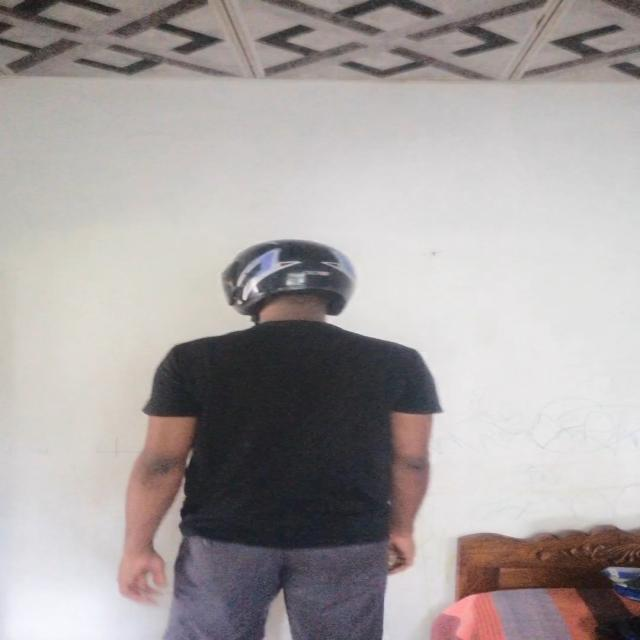Helmet_Wearer: (190, 234, 369, 338)
Person: (115, 236, 438, 640)
